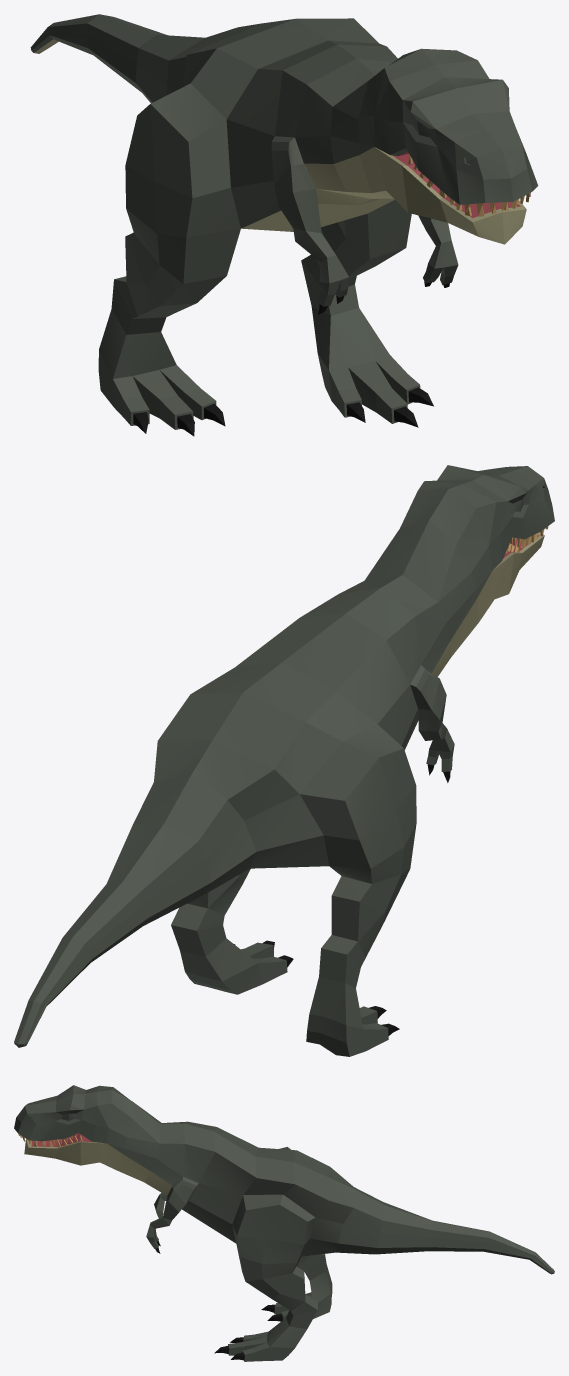
The model's file is dino-trex.glb.
The picture shows the model from 3 angles, top to bottom: view 1: azimuth 30°, elevation 25°; view 2: azimuth 150°, elevation 25°; view 3: azimuth 270°, elevation 25°; orthographic projection. The views are drawn at different scales.
Parts seen in each view (by area): view 1: Cylinder, Cylinder_2, Cylinder_1, Cylinder_3, Cylinder_4; view 2: Cylinder, Cylinder_2; view 3: Cylinder, Cylinder_2, Cylinder_1.
Boxes of the visible parts, bbox=[...] form: Cylinder: bbox=[30, 14, 538, 429]; Cylinder_2: bbox=[33, 39, 526, 244]; Cylinder_1: bbox=[133, 281, 449, 436]; Cylinder_3: bbox=[392, 152, 520, 217]; Cylinder_4: bbox=[408, 156, 530, 216]; Cylinder: bbox=[14, 465, 554, 1056]; Cylinder_2: bbox=[49, 532, 544, 1003]; Cylinder: bbox=[14, 1085, 554, 1361]; Cylinder_2: bbox=[24, 1139, 172, 1195]; Cylinder_1: bbox=[155, 1241, 282, 1360].
Size of the model in its own units: 2.61 by 4.97 by 10.09.
